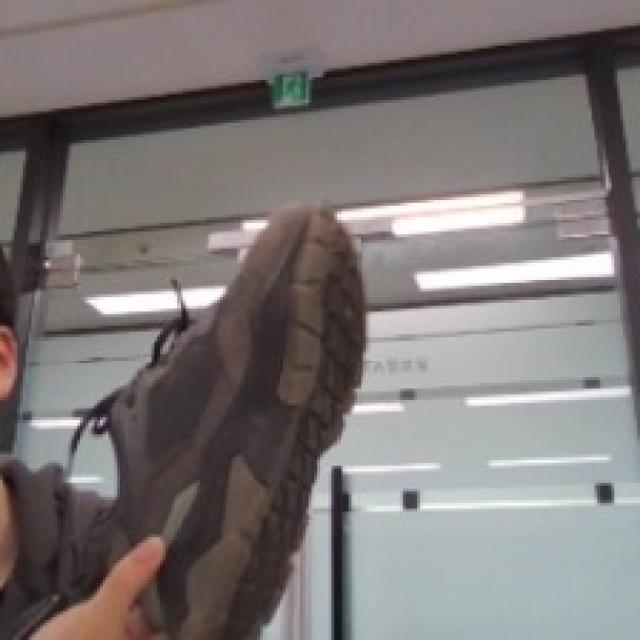shoe: (64, 180, 361, 638)
